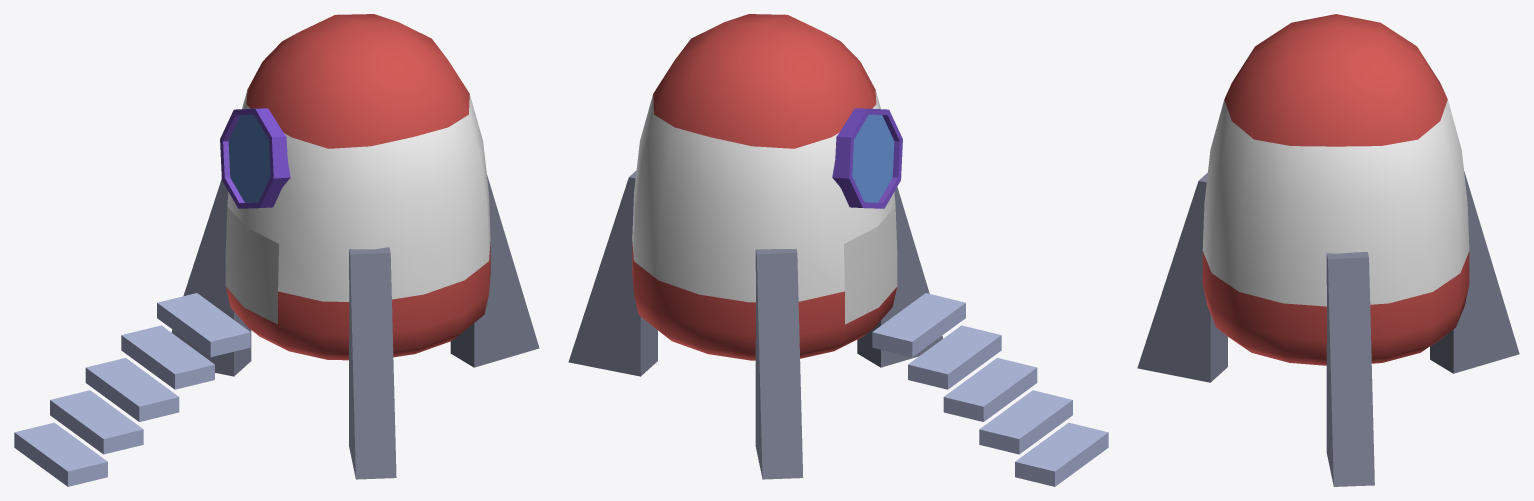
The model's file is rocket.glb.
The picture shows the model from 3 angles, left to right: view 1: azimuth 30°, elevation 25°; view 2: azimuth 150°, elevation 25°; view 3: azimuth 270°, elevation 25°; orthographic projection.
Visible parts, largest first — view 1: body.001, holders-col, stairs, window, blackpart; view 2: body.001, holders-col, stairs, window, blackpart; view 3: body.001, holders-col.
Part boxes in pixels (left/top/right/bottom): body.001: left=226, top=14, right=490, bottom=360; holders-col: left=171, top=175, right=539, bottom=479; stairs: left=14, top=293, right=250, bottom=486; window: left=220, top=108, right=290, bottom=208; blackpart: left=225, top=206, right=278, bottom=324; body.001: left=632, top=14, right=896, bottom=360; holders-col: left=568, top=170, right=942, bottom=479; stairs: left=872, top=293, right=1108, bottom=486; window: left=832, top=108, right=902, bottom=208; blackpart: left=844, top=206, right=897, bottom=324; body.001: left=1202, top=14, right=1469, bottom=365; holders-col: left=1137, top=171, right=1519, bottom=486.
Bounding box in the file's own units: 13.98 × 9.89 × 9.2.
Materials: 1 (1 with a texture image).
